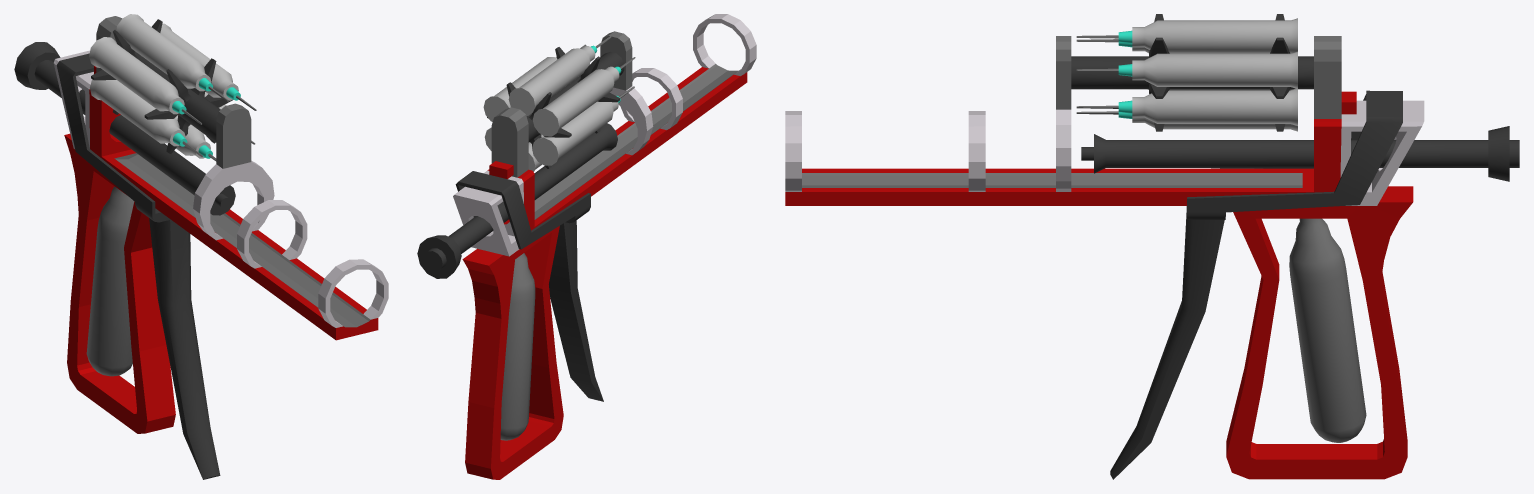
File: Syringe Gun.fbx
3 renders of one model, left to right at view 1: azimuth 30°, elevation 25°; view 2: azimuth 150°, elevation 25°; view 3: azimuth 270°, elevation 25°, orthographic. The views are drawn at different scales.
Visible parts, largest first — view 1: SyringeGun.Frame, SyringeGun.Handle, SyringeGun.Trigger, SyringeGun.Ammo, SyringGun.CO2, SyringeGun.Rod, SyringeGun.Cylinder; view 2: SyringeGun.Frame, SyringeGun.Handle, SyringeGun.Ammo, SyringeGun.Trigger, SyringGun.CO2, SyringeGun.Rod, SyringeGun.Cylinder; view 3: SyringeGun.Frame, SyringeGun.Handle, SyringeGun.Ammo, SyringeGun.Trigger, SyringGun.CO2, SyringeGun.Rod, SyringeGun.Cylinder.
Boxes of the visible parts, x1,y1,x2,y2 form: SyringeGun.Frame: (53,16,388,340); SyringeGun.Handle: (64,133,175,433); SyringeGun.Trigger: (56,53,220,479); SyringeGun.Ammo: (89,14,256,161); SyringGun.CO2: (86,186,134,376); SyringeGun.Rod: (14,42,235,215); SyringeGun.Cylinder: (91,19,233,153); SyringeGun.Frame: (453,14,756,256); SyringeGun.Handle: (462,226,563,479); SyringeGun.Ammo: (483,36,635,171); SyringeGun.Trigger: (455,171,603,401); SyringGun.CO2: (500,253,535,440); SyringeGun.Rod: (417,123,617,278); SyringeGun.Cylinder: (487,47,624,168); SyringeGun.Frame: (785,36,1424,205); SyringeGun.Handle: (1226,186,1413,479); SyringeGun.Ammo: (1076,18,1297,131); SyringeGun.Trigger: (1110,90,1402,479); SyringGun.CO2: (1289,218,1366,442); SyringeGun.Rod: (1081,126,1519,181); SyringeGun.Cylinder: (1071,14,1313,131).
Bounding box in the file's own units: 77.13 × 329 × 481.
